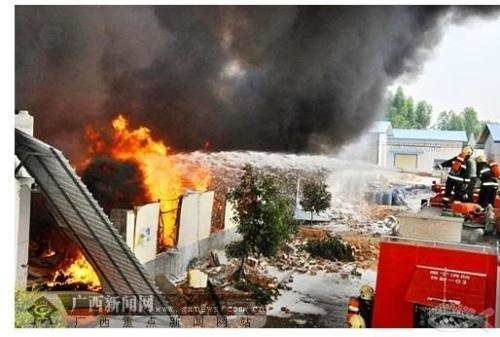fire: (89, 113, 216, 199), (47, 248, 102, 290)
